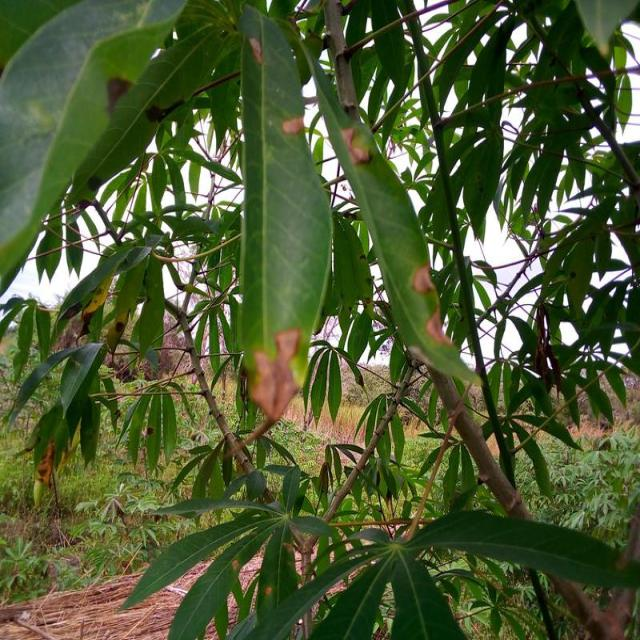cassava leaf: (298, 29, 484, 388), (236, 3, 333, 418)
